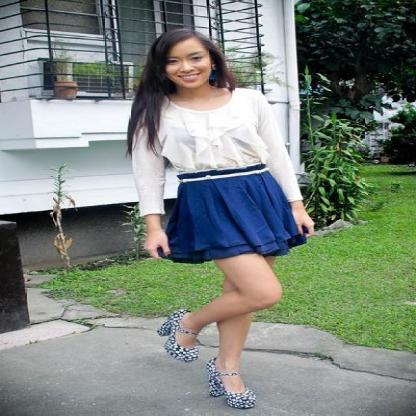shirt: (132, 85, 307, 216)
shoe: (158, 312, 255, 410)
skirt: (157, 164, 306, 264)
